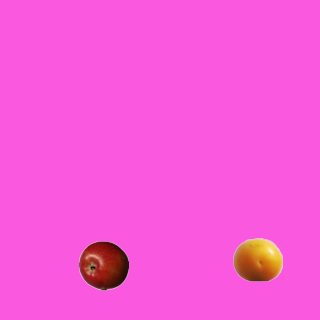Apple Braeburn: (78, 240, 128, 290)
Cherry Wax Yellow: (232, 234, 282, 284)
